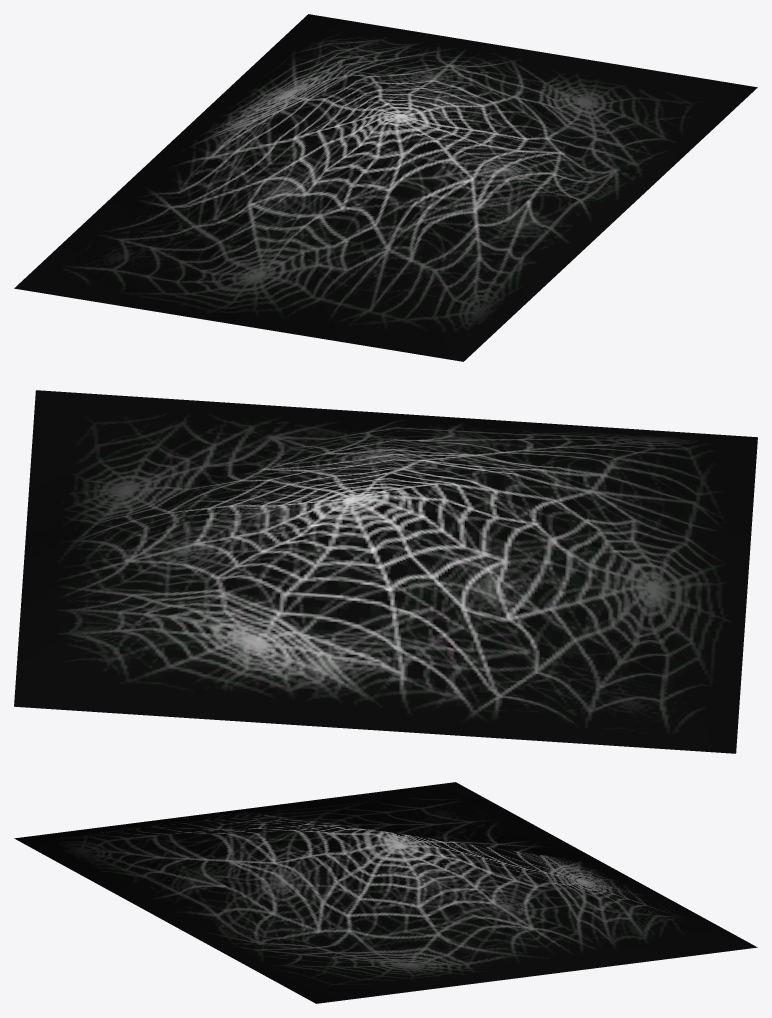
Rendered from MIRKWOOD_PLANE08.fbx.
3 views of the same model, one above another, from view 1: azimuth 30°, elevation 25°; view 2: azimuth 150°, elevation 25°; view 3: azimuth 270°, elevation 25° (orthographic). The views are drawn at different scales.
Visible parts, largest first — view 1: MIRKWOOD_PLANE08; view 2: MIRKWOOD_PLANE08; view 3: MIRKWOOD_PLANE08.
Boxes of the visible parts, bbox=[...] form: MIRKWOOD_PLANE08: bbox=[14, 14, 757, 361]; MIRKWOOD_PLANE08: bbox=[14, 390, 757, 753]; MIRKWOOD_PLANE08: bbox=[14, 782, 757, 1003].
Size of the model in its own units: 269971 by 42991 by 275187.
1 material, 1 textured.
